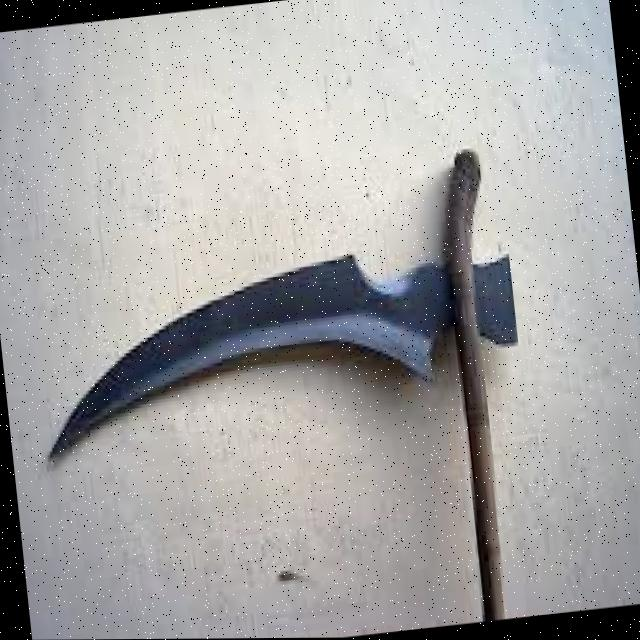sickle: (29, 149, 619, 640)
